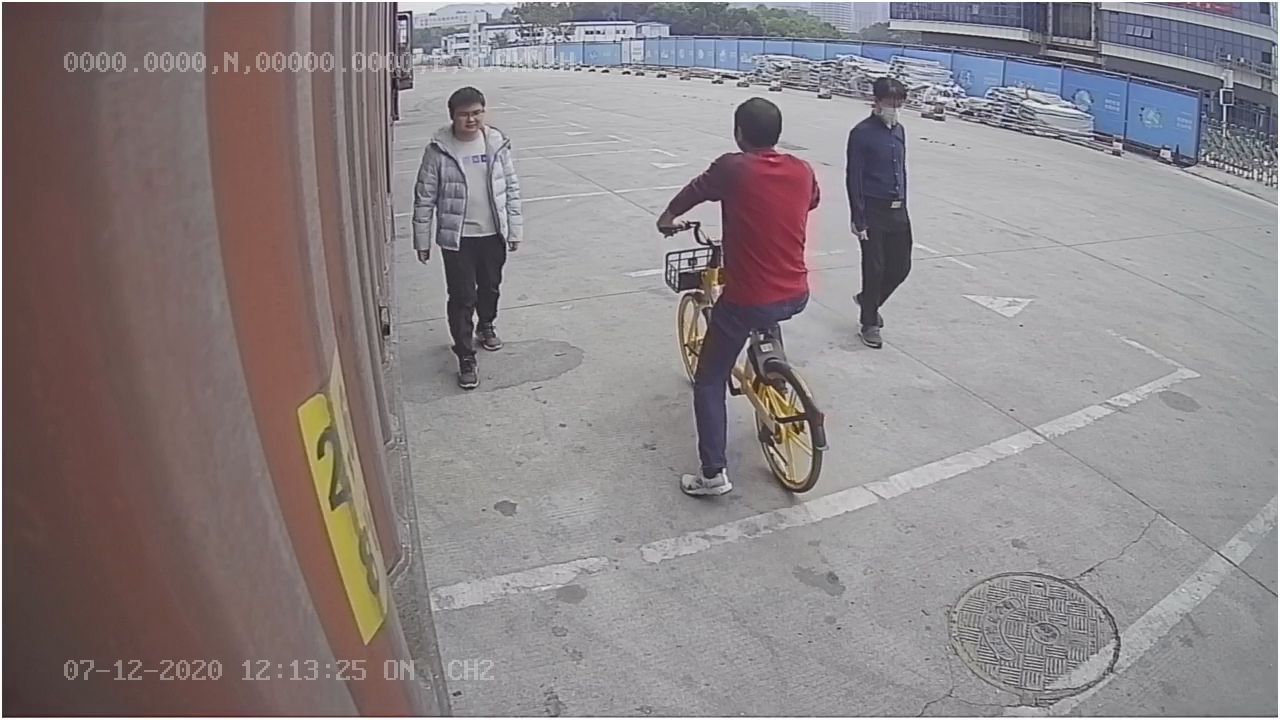person: (412, 86, 529, 390), (841, 68, 920, 357)
